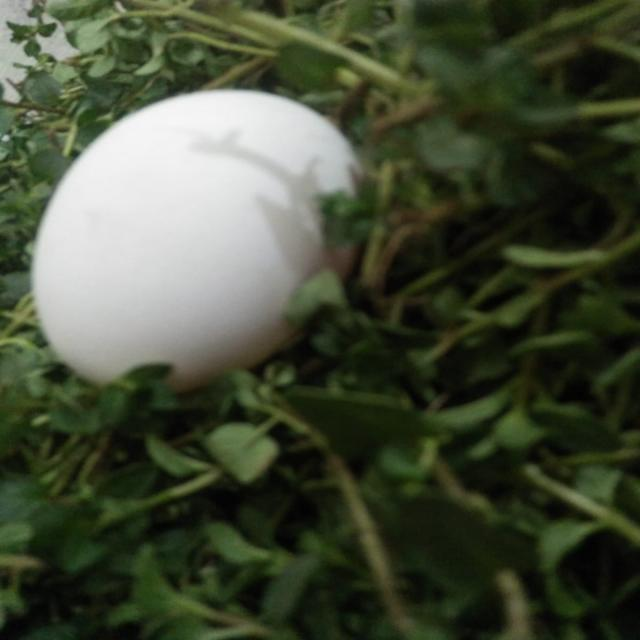Egg: (0, 74, 398, 404)
